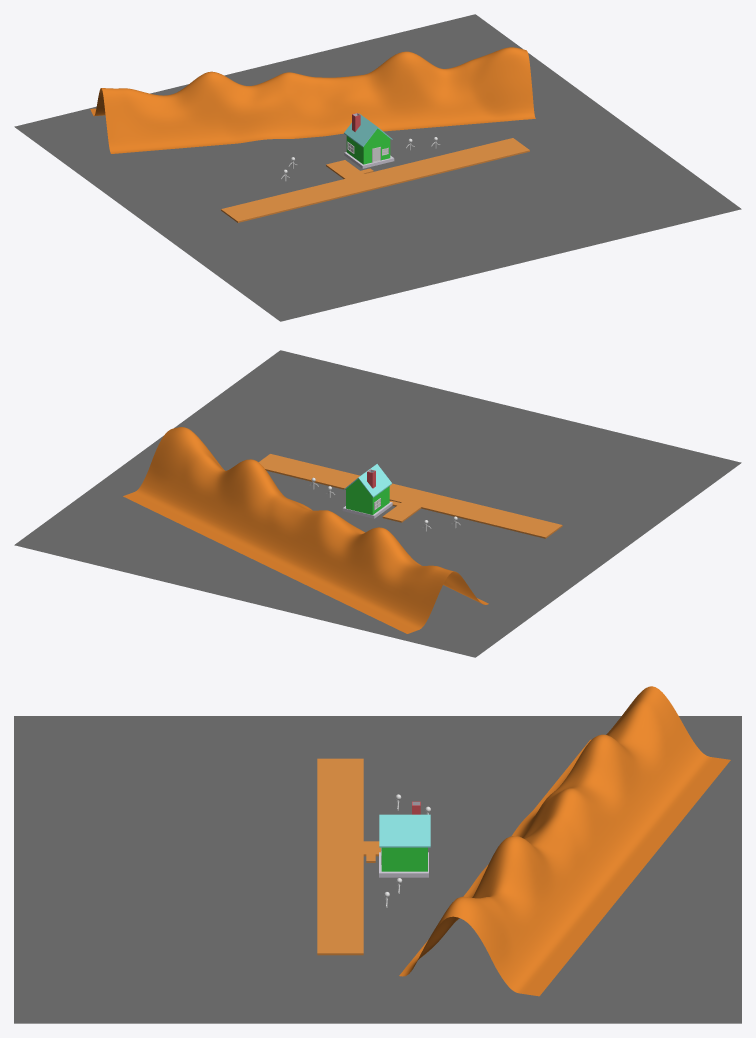
File: 3d landscape_env.glb
The picture shows the model from 3 angles, top to bottom: view 1: azimuth 30°, elevation 25°; view 2: azimuth 150°, elevation 25°; view 3: azimuth 270°, elevation 25°; orthographic projection. The views are drawn at different scales.
Parts seen in each view (by area): view 1: Circle.001, Plane, Plane.001, Cube, Cube.003; view 2: Circle.001, Plane, Plane.001, Cube, Cube.003; view 3: Circle.001, Plane, Plane.001, Cube.003, Cube.
Part boxes in pixels (x1,y1,x2,y2): Circle.001: [14, 14, 741, 321]; Plane: [90, 47, 535, 153]; Plane.001: [221, 138, 529, 222]; Cube: [346, 128, 390, 164]; Cube.003: [344, 113, 392, 147]; Circle.001: [14, 350, 741, 657]; Plane: [123, 427, 488, 633]; Plane.001: [258, 454, 562, 538]; Cube: [346, 479, 389, 514]; Cube.003: [343, 464, 391, 497]; Circle.001: [14, 716, 741, 1023]; Plane: [399, 686, 730, 996]; Plane.001: [317, 758, 380, 955]; Cube.003: [379, 814, 430, 847]; Cube: [381, 847, 427, 871].
Size of the model in its own units: 31.4 by 3.96 by 31.4.
